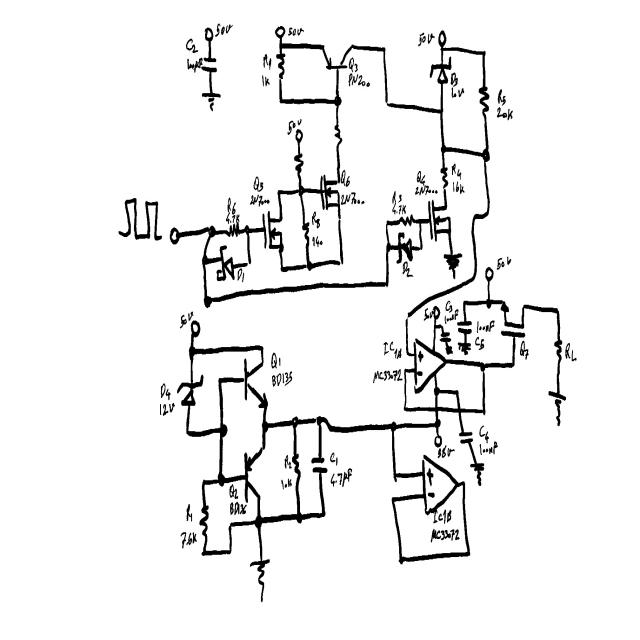capacitor: (311, 453, 328, 478), (458, 429, 475, 446), (201, 55, 217, 73), (457, 319, 473, 336), (439, 331, 451, 344)
crossover: (432, 404, 441, 414), (456, 405, 462, 415)
diode: (177, 375, 204, 409), (216, 243, 236, 281), (430, 55, 452, 85), (396, 231, 414, 265)
ground: (249, 555, 270, 601), (548, 389, 566, 426), (443, 252, 463, 280), (201, 90, 222, 113), (470, 462, 485, 486), (457, 341, 472, 356), (444, 345, 454, 355)
junction: (471, 265, 481, 284), (314, 413, 325, 428), (218, 423, 228, 439), (332, 94, 343, 108), (254, 514, 263, 531), (482, 147, 491, 163), (203, 292, 211, 309), (207, 223, 216, 238), (291, 415, 300, 429), (261, 419, 269, 434), (243, 223, 251, 237), (297, 184, 305, 198), (188, 345, 196, 359), (485, 296, 493, 310), (217, 471, 225, 485), (201, 253, 208, 268), (403, 309, 411, 322), (433, 418, 441, 430), (390, 420, 397, 433), (320, 507, 327, 520), (305, 260, 312, 273), (200, 477, 207, 490), (442, 200, 449, 213), (297, 511, 304, 524), (479, 361, 486, 373), (440, 143, 447, 154), (278, 264, 285, 275), (277, 243, 284, 254), (392, 471, 398, 483), (381, 43, 387, 55), (338, 256, 344, 268), (227, 521, 233, 533), (246, 258, 253, 268), (446, 226, 453, 236), (398, 554, 404, 565), (276, 187, 282, 198), (217, 375, 223, 386), (471, 212, 477, 223), (278, 95, 284, 106), (390, 494, 396, 505), (201, 547, 207, 558), (402, 403, 408, 414), (461, 297, 467, 308), (454, 388, 460, 398), (384, 98, 390, 108), (384, 279, 390, 289), (227, 546, 233, 556), (259, 343, 265, 353), (434, 386, 439, 397), (438, 107, 444, 116), (510, 360, 516, 369), (185, 427, 190, 437), (481, 48, 486, 58), (386, 242, 391, 252), (481, 406, 486, 416), (418, 217, 423, 227), (555, 306, 560, 315), (466, 549, 471, 558), (433, 323, 438, 331), (439, 322, 444, 330), (419, 243, 423, 252), (385, 219, 389, 227), (405, 348, 409, 356), (337, 176, 340, 184)
resistor: (479, 82, 490, 120), (198, 502, 209, 540), (291, 449, 302, 484), (276, 49, 285, 81), (225, 222, 241, 239), (333, 123, 343, 150), (293, 151, 304, 175), (554, 337, 563, 365), (398, 213, 415, 227), (440, 166, 449, 189), (302, 221, 310, 246)
source: (190, 320, 203, 337), (437, 30, 447, 47), (484, 266, 494, 283), (275, 25, 286, 39), (434, 435, 443, 448), (433, 305, 440, 319)
terminal: (169, 225, 180, 246), (204, 25, 214, 43), (294, 128, 303, 144)
text: (330, 468, 353, 490), (372, 368, 403, 384), (430, 526, 459, 543), (339, 190, 364, 208), (347, 71, 370, 90), (270, 369, 292, 388), (383, 340, 402, 361), (415, 182, 438, 198), (180, 529, 197, 549), (179, 310, 194, 332), (186, 54, 203, 73), (249, 193, 270, 208), (229, 499, 247, 516), (496, 103, 513, 120), (477, 319, 495, 335), (215, 22, 233, 38), (444, 301, 457, 323), (437, 444, 456, 459), (564, 342, 577, 363), (158, 400, 174, 417), (417, 31, 435, 46), (479, 441, 498, 455), (400, 259, 413, 279), (434, 509, 452, 523), (252, 174, 264, 194), (185, 37, 198, 54), (496, 256, 511, 270), (287, 25, 304, 37), (160, 383, 172, 400), (519, 340, 529, 360), (479, 424, 489, 444), (451, 162, 462, 180), (288, 117, 302, 131), (452, 180, 465, 195), (280, 475, 292, 490), (340, 169, 350, 187), (227, 196, 237, 214), (475, 334, 486, 350), (229, 483, 240, 499), (311, 211, 320, 230), (263, 52, 272, 71), (390, 204, 407, 214), (451, 85, 464, 98), (312, 233, 323, 248), (225, 212, 240, 223), (271, 352, 281, 368), (391, 191, 403, 204), (497, 89, 506, 106), (348, 58, 358, 72), (283, 453, 291, 470), (417, 170, 426, 185), (424, 306, 433, 321), (186, 502, 193, 521), (330, 451, 339, 465), (237, 268, 245, 283), (450, 72, 458, 87), (261, 75, 270, 87)
transistor: (241, 356, 268, 410), (242, 446, 264, 506), (498, 297, 526, 341), (321, 39, 352, 72), (428, 199, 451, 242), (317, 174, 341, 211), (260, 209, 282, 249)
